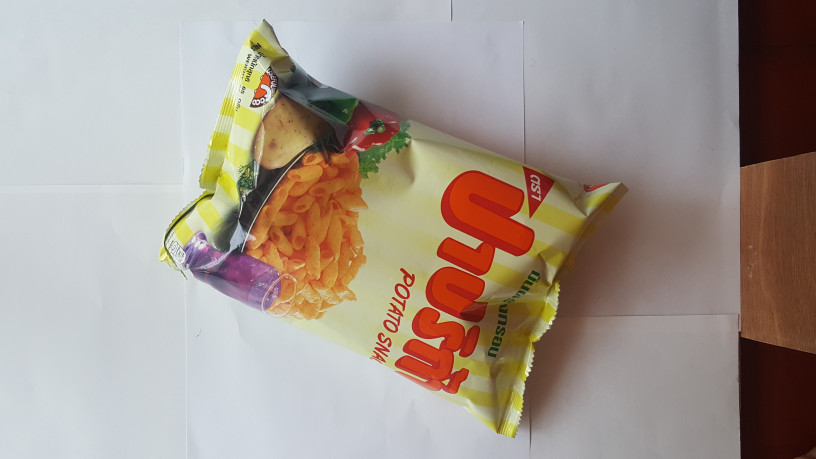paprika: (138, 18, 633, 448)
